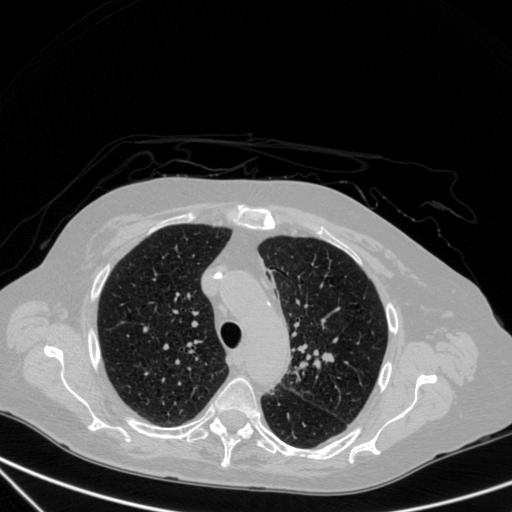nodule: (318, 350, 335, 367)
